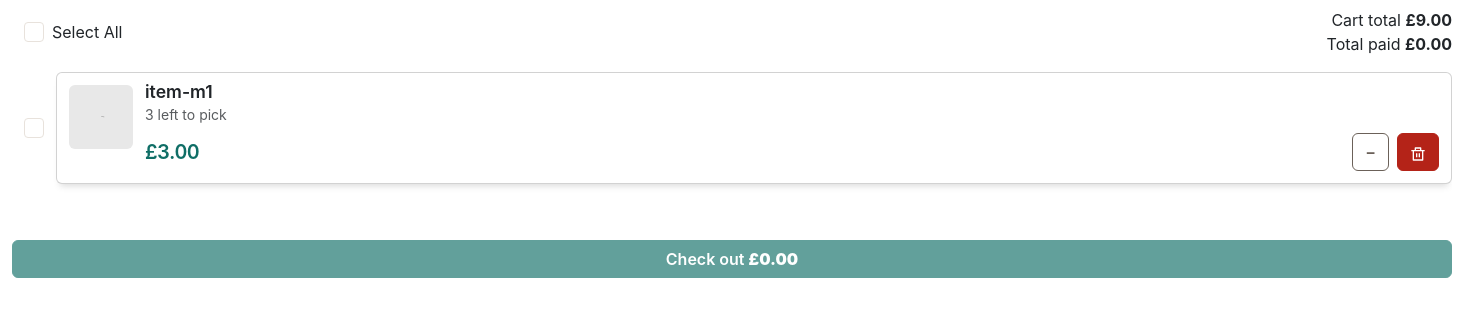
Test: changing the table's order from the cart › says why when − would take a unit someone is paying for, and shows the cart as it is
This screenshot has width=1464, height=316.
Click the button named "Order one less item-m1" at (1371, 152), box [1352, 133, 1389, 171]
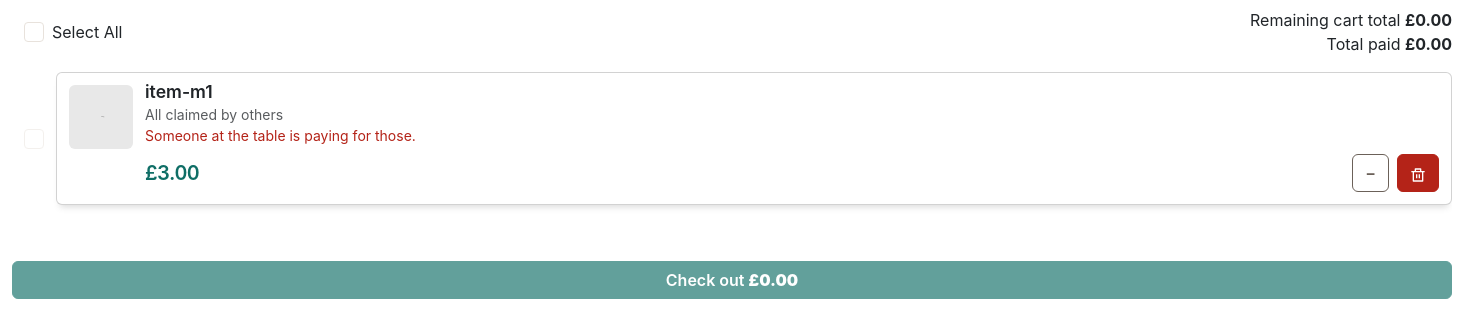
Expected: the text "Someone at the table is paying for those." is shown, [145, 127, 416, 144]
